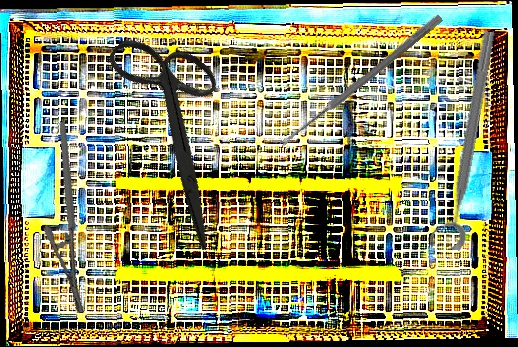Fixation Ring: (427, 27, 502, 252)
Iris Scissors: (55, 12, 297, 251)
Needle Holder: (16, 121, 128, 315)
Surgical Spoon: (278, 12, 444, 150)
